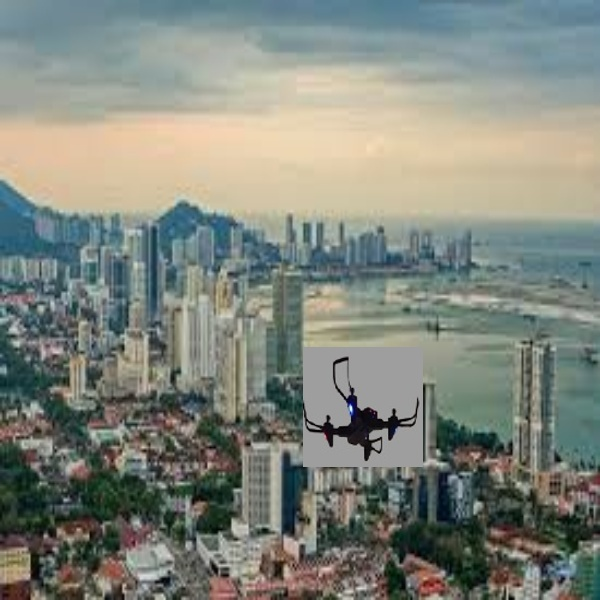drone: (303, 347, 423, 462)
